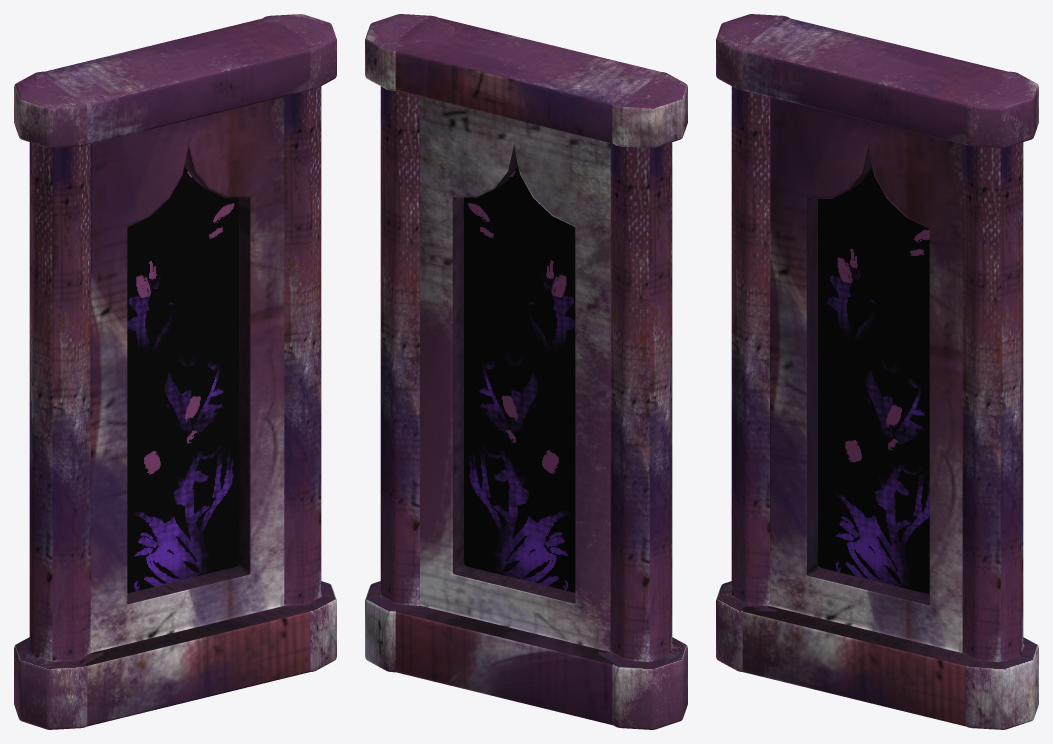
The model's file is MANOR_WINDOW_1_002.obj.
The picture shows the model from 3 angles, left to right: view 1: azimuth 30°, elevation 25°; view 2: azimuth 150°, elevation 25°; view 3: azimuth 330°, elevation 25°; orthographic projection.
Visible parts, largest first — view 1: MANOR_WINDOW_1_002; view 2: MANOR_WINDOW_1_002; view 3: MANOR_WINDOW_1_002.
Boxes of the visible parts, box(x1,y1,x2,y2) form: MANOR_WINDOW_1_002: box(14, 14, 336, 729); MANOR_WINDOW_1_002: box(365, 14, 687, 729); MANOR_WINDOW_1_002: box(716, 14, 1038, 729).
Bounding box in the file's own units: 1.57 × 3 × 0.4135.
